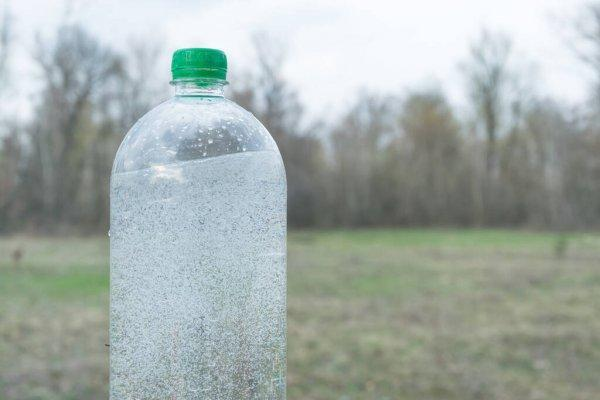bottle: (100, 30, 312, 400)
